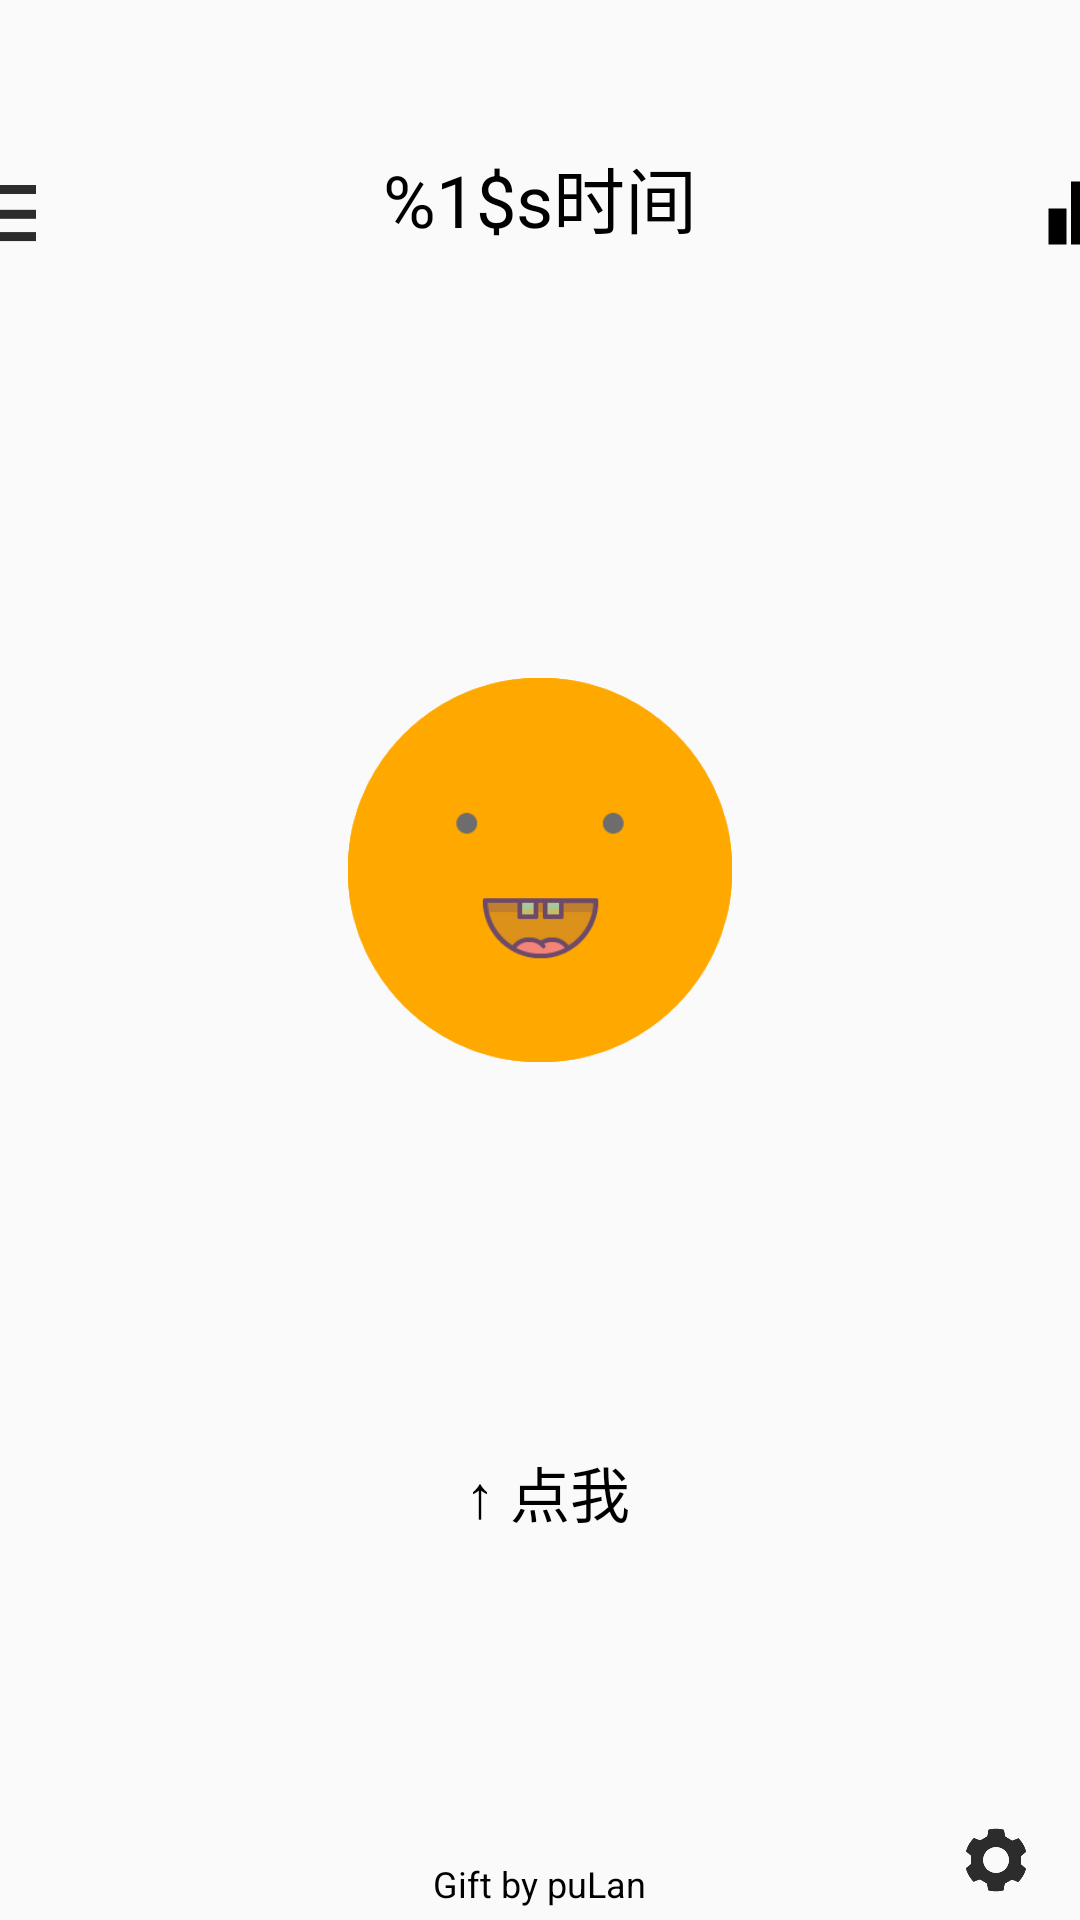

Point at icon controls on the screen. Image size 1080px x 1920px, points as point (x, y).
chart half left: point (1064, 213)
setting: point (996, 1860)
